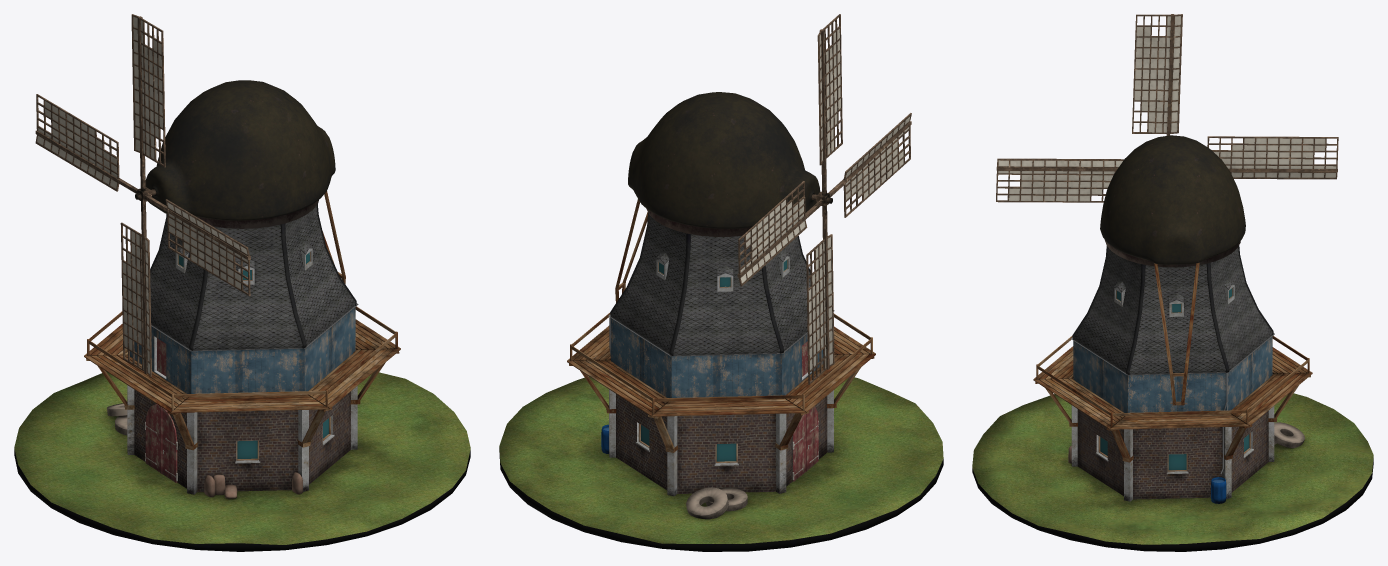
The model's file is windmill.obj.
3 views of the same model, side by side, from view 1: azimuth 30°, elevation 25°; view 2: azimuth 150°, elevation 25°; view 3: azimuth 270°, elevation 25° (orthographic). The views are drawn at different scales.
Visible parts, largest first — view 1: Muehle_Muehle_0, Sockel_sockel_0, Windrad_GelaenderWindrad_0, Gelaender_GelaenderWindrad_0; view 2: Muehle_Muehle_0, Sockel_sockel_0, Windrad_GelaenderWindrad_0, Gelaender_GelaenderWindrad_0; view 3: Muehle_Muehle_0, Sockel_sockel_0, Windrad_GelaenderWindrad_0, Gelaender_GelaenderWindrad_0.
Part boxes in pixels (x1=…): Muehle_Muehle_0: x1=107, y1=80, x2=358, y2=498; Sockel_sockel_0: x1=14, y1=371, x2=470, y2=551; Windrad_GelaenderWindrad_0: x1=35, y1=14, x2=250, y2=376; Gelaender_GelaenderWindrad_0: x1=84, y1=191, x2=400, y2=450; Muehle_Muehle_0: x1=601, y1=92, x2=834, y2=519; Sockel_sockel_0: x1=499, y1=376, x2=943, y2=551; Windrad_GelaenderWindrad_0: x1=737, y1=14, x2=911, y2=384; Gelaender_GelaenderWindrad_0: x1=567, y1=199, x2=875, y2=452; Muehle_Muehle_0: x1=1068, y1=135, x2=1304, y2=503; Sockel_sockel_0: x1=972, y1=393, x2=1373, y2=551; Windrad_GelaenderWindrad_0: x1=996, y1=14, x2=1338, y2=202; Gelaender_GelaenderWindrad_0: x1=1033, y1=262, x2=1312, y2=462.
Size of the model in its own units: 1.23 by 1.38 by 1.23.
Materials: 3 (3 with a texture image).
